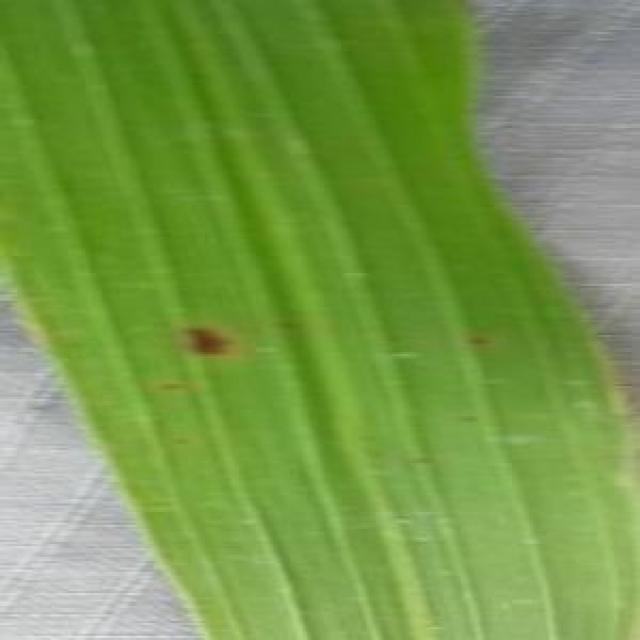brownspots: (175, 314, 241, 364)
